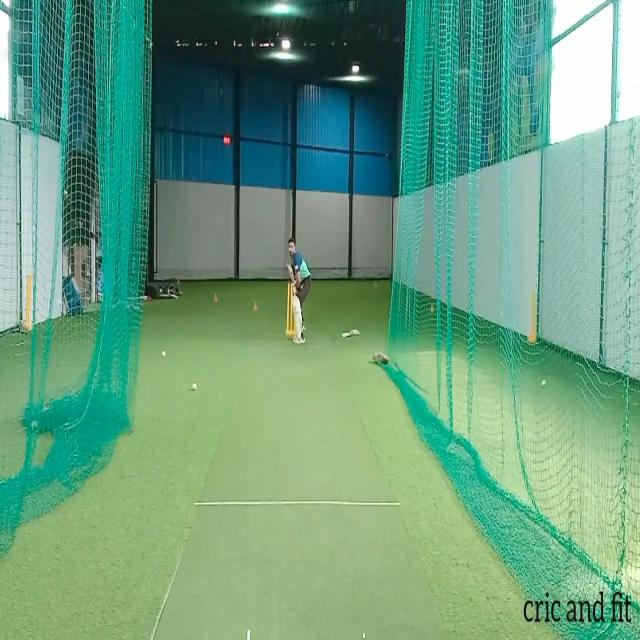batsman: (286, 236, 312, 346)
